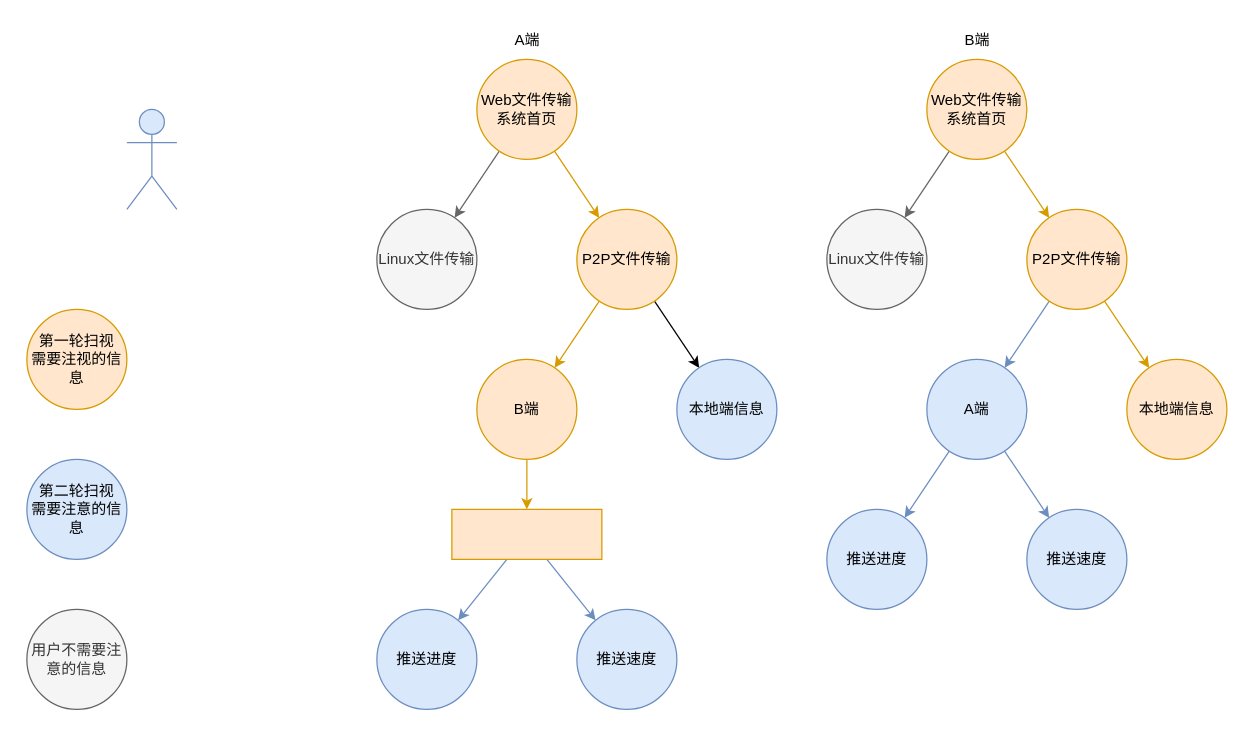
The diagram is 1249 pixels wide and 731 high, and some of its shapes have lost their labels. The centre of each missing label's shape, as x and y in pixels:
"这个人在打开网页前，目的就很明确， 向局域网内的另一个终端传输文件 。 举一个明确的场景，A端向B端传输文件" goes at pixel 151 158.
"选择文件并推送" goes at pixel 526 533.
